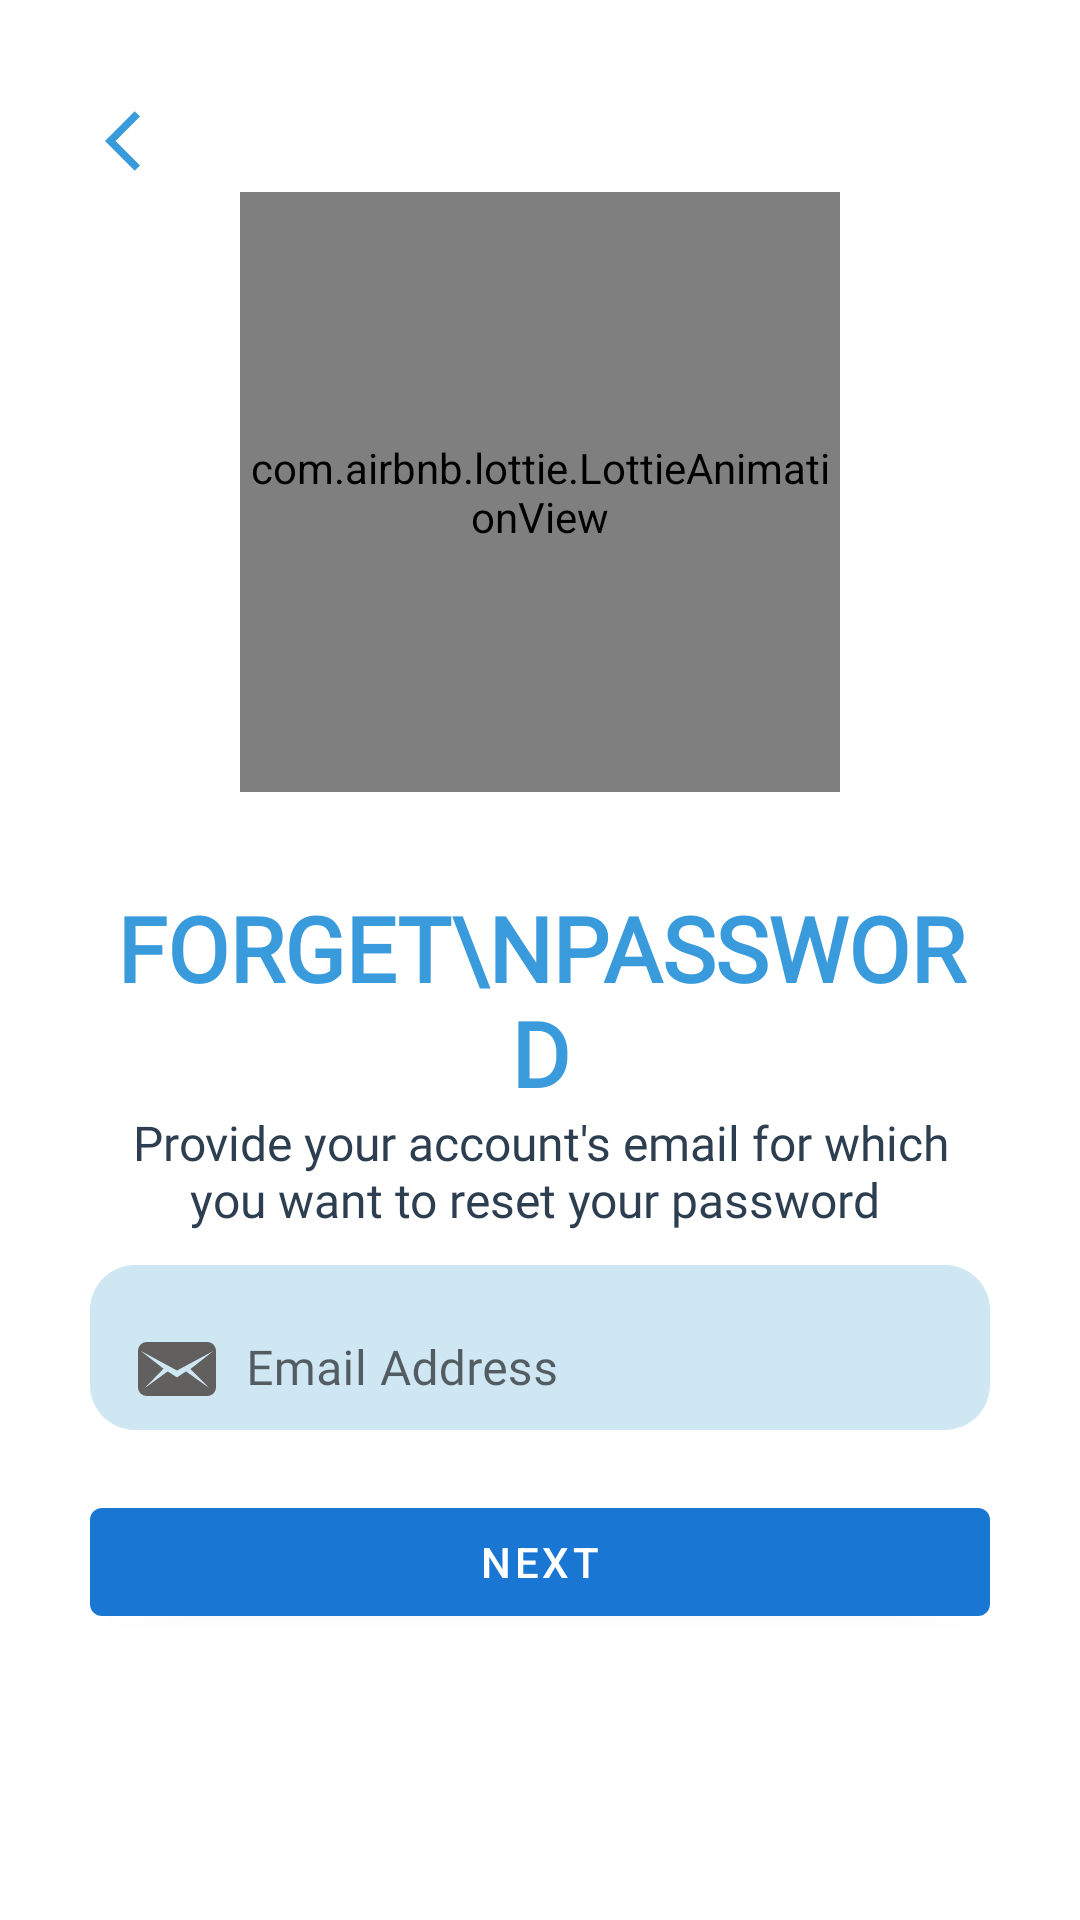

Named icons in this screenshot (1080 × 1920) and their bounding boxes, (x1, y1, x2, y2):
general back: (105, 111, 140, 171)
